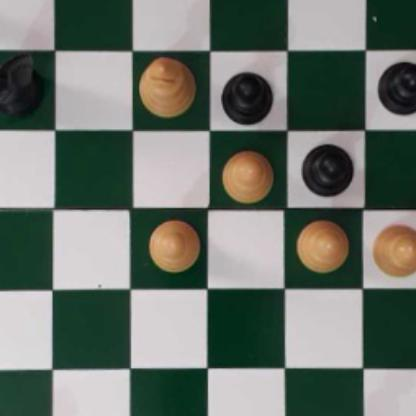black-knight: (0, 51, 46, 116)
black-pawn: (219, 69, 275, 125), (301, 139, 354, 197), (377, 57, 416, 115)
white-bishop: (139, 53, 195, 115)
white-pawn: (216, 147, 275, 201), (295, 215, 349, 272), (146, 219, 200, 272), (372, 219, 416, 278)
